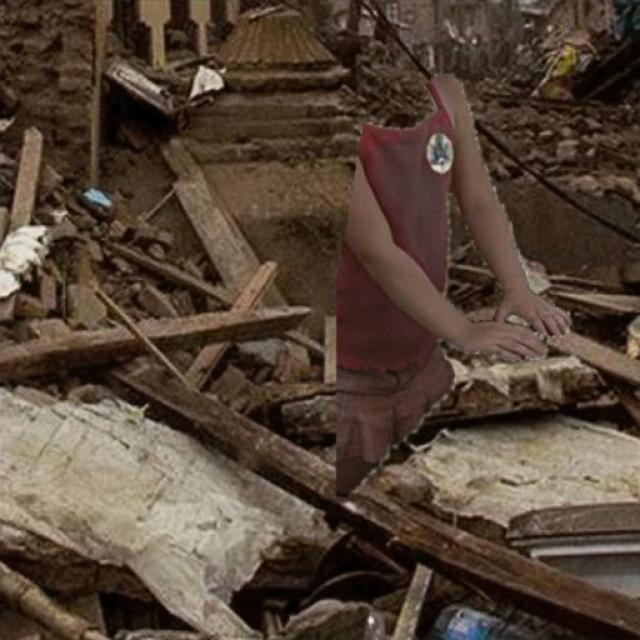Person in Rubble: (336, 74, 572, 496)
